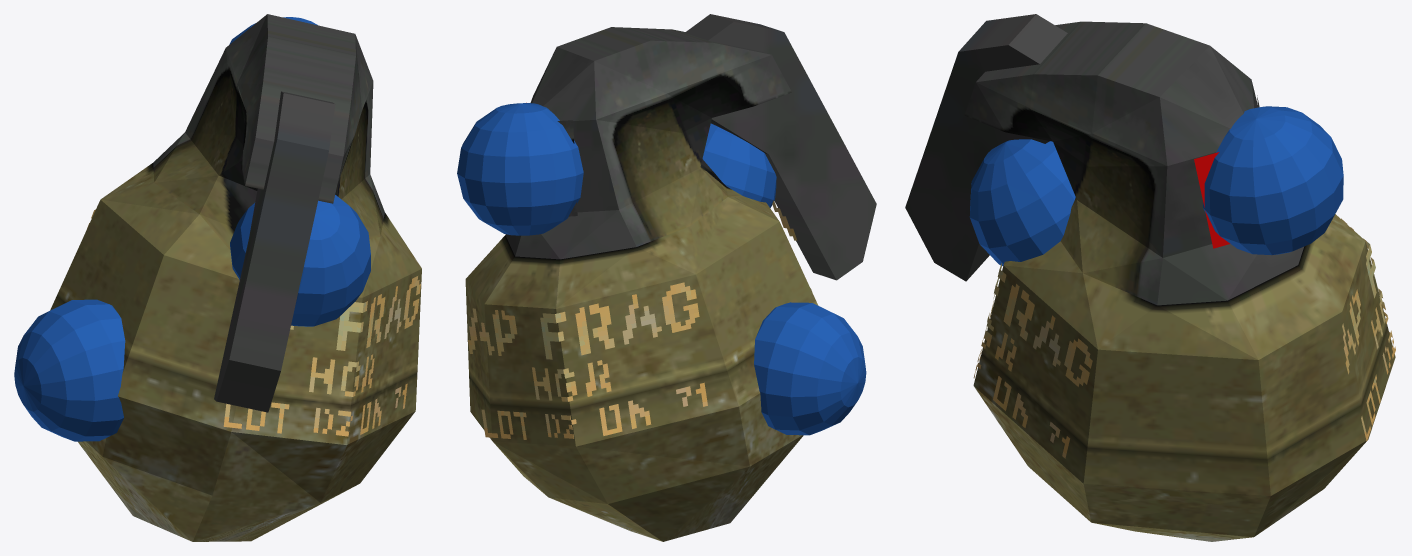
Rendered from frag grenade.obj.
3 renders of one model, left to right at view 1: azimuth 30°, elevation 25°; view 2: azimuth 150°, elevation 25°; view 3: azimuth 270°, elevation 25°, orthographic. The views are drawn at different scales.
Visible parts, largest first — view 1: __unnamed, _ground_point, _smoke; view 2: __unnamed, _light, _ground_point, _smoke; view 3: __unnamed, _light, _smoke.
Part boxes in pixels (bbox=[...]): __unnamed: bbox=[50, 14, 421, 541]; _ground_point: bbox=[14, 299, 125, 441]; _smoke: bbox=[230, 195, 370, 326]; __unnamed: bbox=[465, 14, 876, 541]; _light: bbox=[457, 103, 583, 235]; _ground_point: bbox=[754, 302, 866, 435]; _smoke: bbox=[702, 123, 776, 207]; __unnamed: bbox=[905, 14, 1395, 541]; _light: bbox=[1203, 106, 1343, 255]; _smoke: bbox=[969, 139, 1075, 265].
Size of the model in its own units: 6.04 by 7.62 by 6.5.
